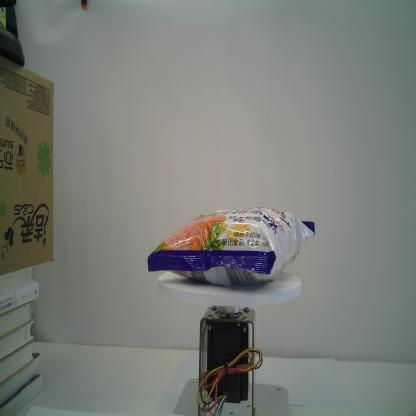Puffed Food: (144, 203, 316, 290)
